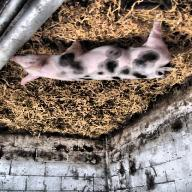boar: (10, 15, 175, 85)
